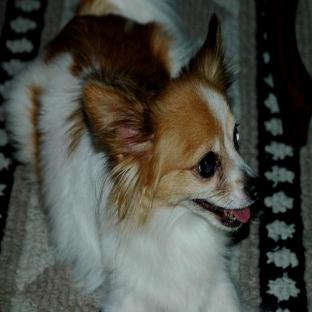Animal: (4, 0, 259, 311)
